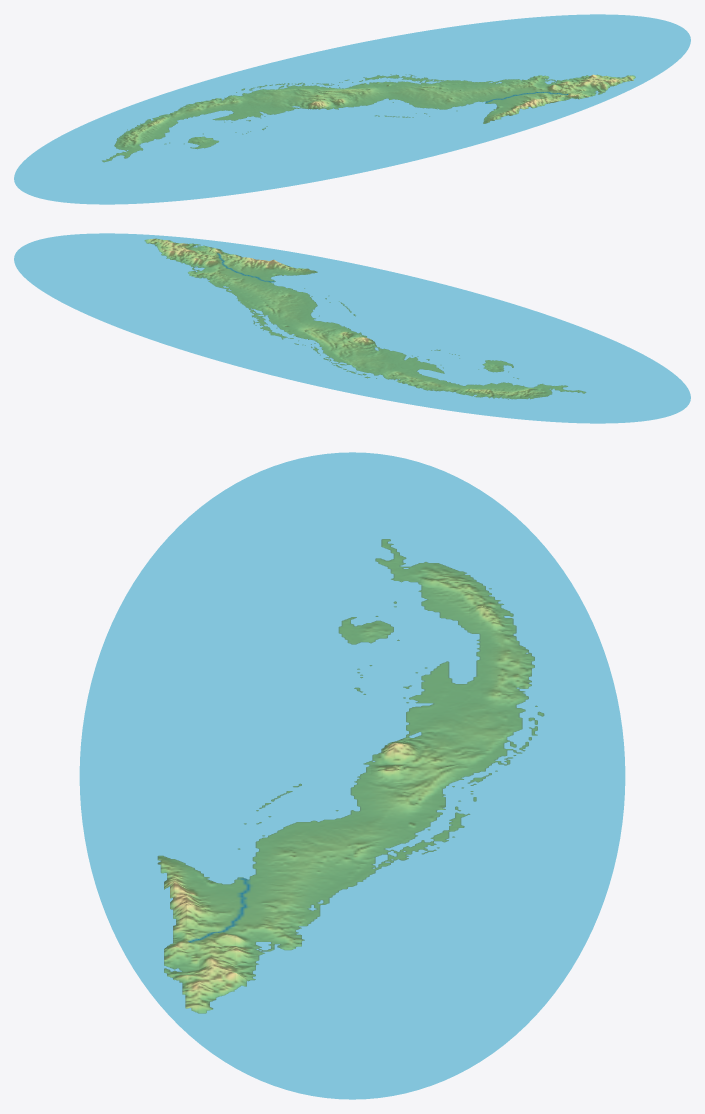
The model's file is CUB-terrain.glb.
3 renders of one model, top to bottom at view 1: azimuth 30°, elevation 25°; view 2: azimuth 150°, elevation 25°; view 3: azimuth 270°, elevation 25°, orthographic. The views are drawn at different scales.
Parts seen in each view (by area): view 1: Relevo com hidrografia; view 2: Relevo com hidrografia; view 3: Relevo com hidrografia.
Part boxes in pixels (x1,y1,x2,y2): Relevo com hidrografia: [14, 14, 690, 204]; Relevo com hidrografia: [14, 233, 690, 423]; Relevo com hidrografia: [79, 452, 625, 1099].
Size of the model in its own units: 2.19 by 0.0201 by 0.7803.
2 materials, 1 textured.
